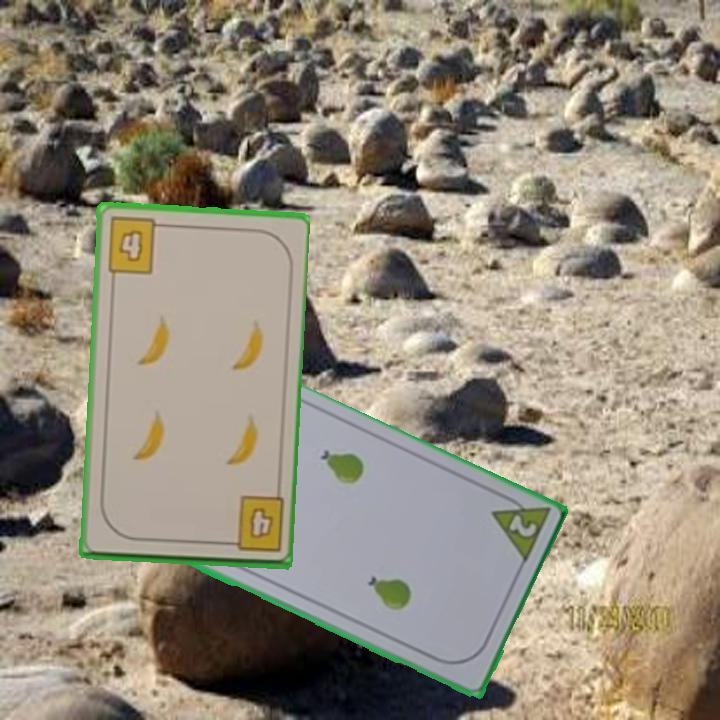2p: (486, 488, 552, 568)
4b: (219, 493, 286, 556), (104, 214, 168, 277)
